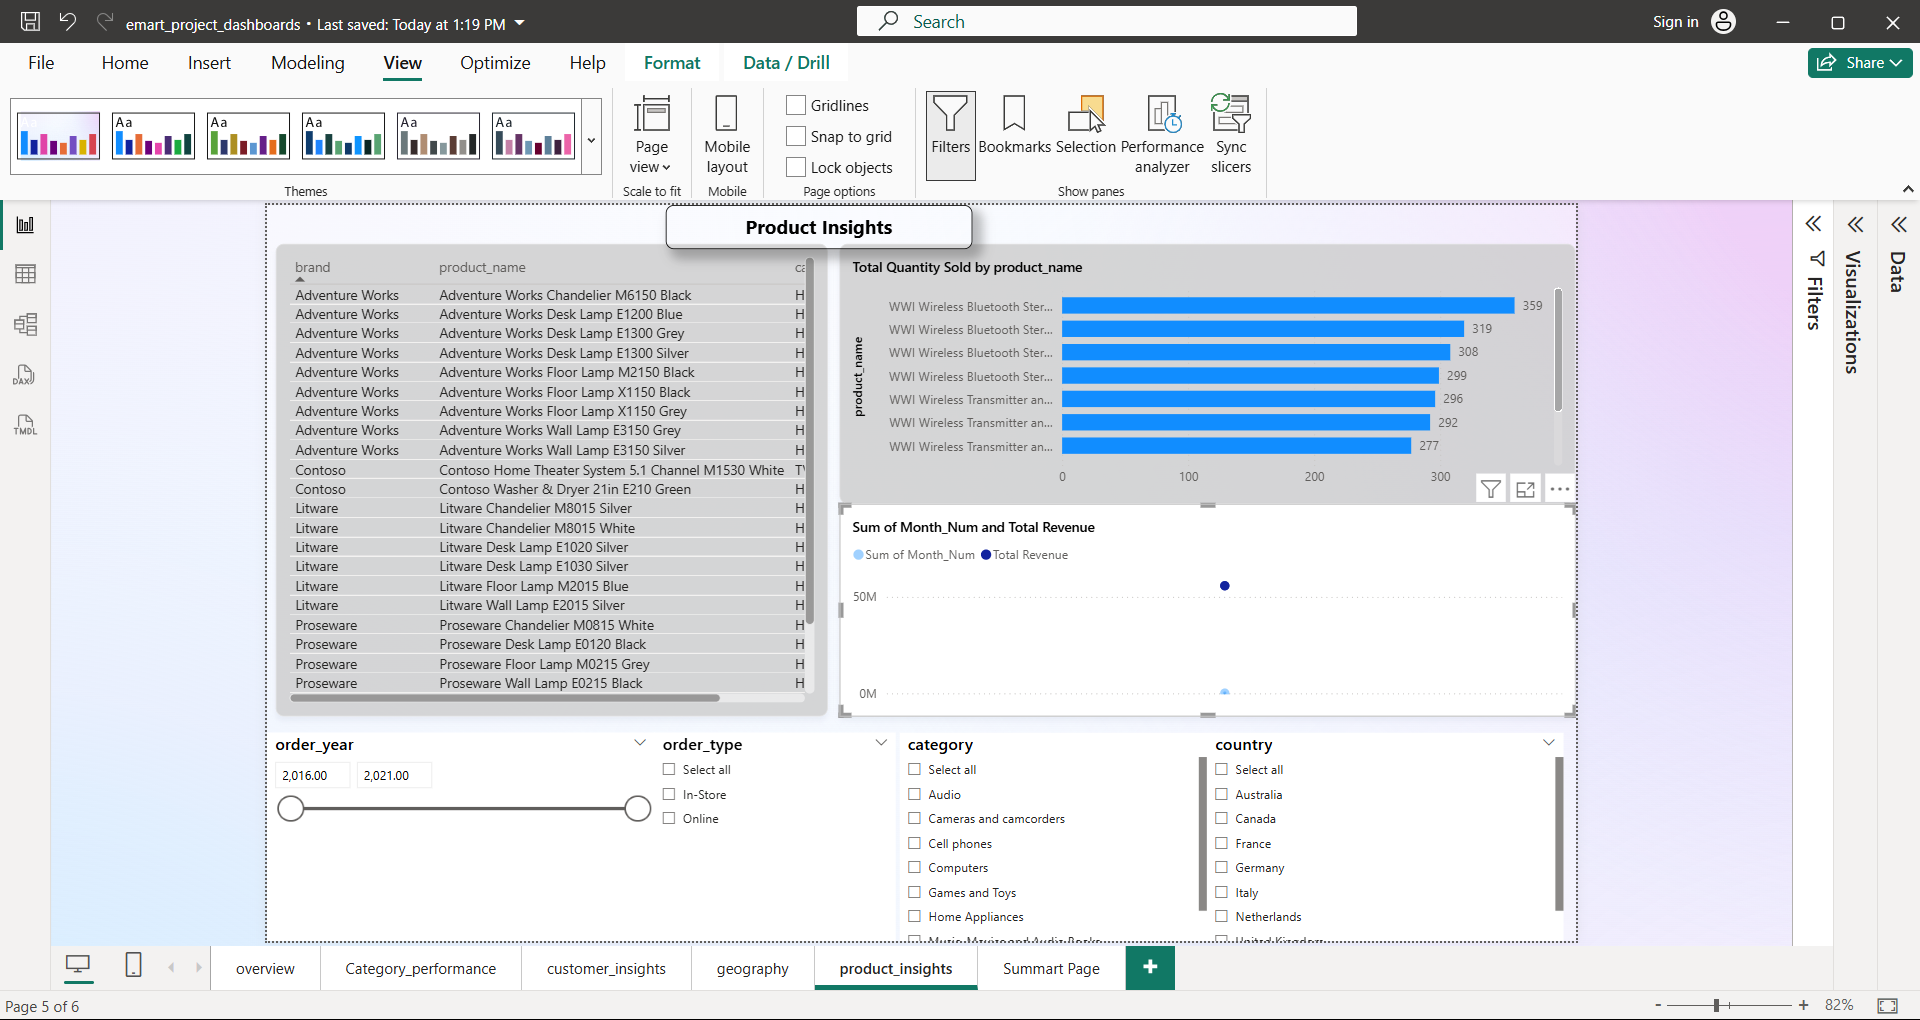

Layout of this report page (visuals, bound fields, positions):
{"tool":"powerbi","page":{"name":"product_insights","canvas":[1280,720],"ordinal":4},"visuals":[{"type":"tableEx","fields":{"Values":["products.brand","products.product_name","products.category"]},"box":[9,38,540,462],"z":0},{"type":"clusteredBarChart","fields":{"Y":["products.Total Quantity Sold"],"Category":["products.product_name"]},"box":[560.1,37.9,720.2,254.3],"z":1000},{"type":"slicer","fields":{"Values":["sales.order_year"]},"box":[0,516,379.1,204.2],"z":2000},{"type":"slicer","fields":{"Values":["sales.order_type"]},"box":[379.1,516,236,204.2],"z":3000},{"type":"slicer","fields":{"Values":["products.category"]},"box":[618.8,516,300.8,204.2],"z":4000},{"type":"slicer","fields":{"Values":["customers.country"]},"box":[919.6,516,348.5,204.2],"z":5000},{"type":"textbox","box":[390,0,300,43],"z":6000},{"type":"lineChart","fields":{"Y":["Sum(sales.Month_Num)","products.Total Revenue"]},"box":[585.7,292.3,508.7,207.9],"z":7000}]}

Visuals, with their boxes on the page's 1280x720 design canvas (x1, y1, x2, y2). These are canvas units, not pixel positions in the 1920x1020 screenshot, which may show the page scaled, cropped or inside an application window:
tableEx - products.brand x products.product_name: [left=9, top=38, right=549, bottom=500]
clusteredBarChart - products.Total Quantity Sold x products.product_name: [left=560, top=38, right=1280, bottom=292]
slicer - sales.order_year: [left=0, top=516, right=379, bottom=720]
slicer - sales.order_type: [left=379, top=516, right=615, bottom=720]
slicer - products.category: [left=619, top=516, right=920, bottom=720]
slicer - customers.country: [left=920, top=516, right=1268, bottom=720]
textbox: [left=390, top=0, right=690, bottom=43]
lineChart - Sum(sales.Month_Num) x products.Total Revenue: [left=586, top=292, right=1094, bottom=500]
